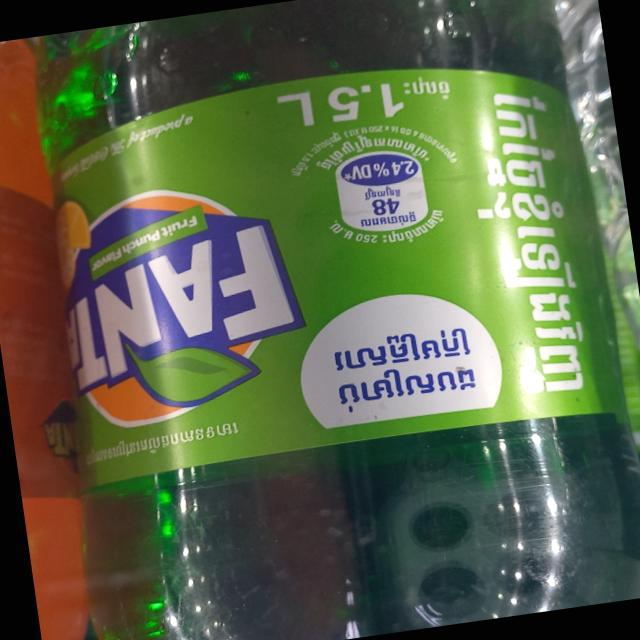523: (314, 77, 406, 128)
634: (389, 158, 420, 178)
680: (353, 230, 378, 244)
758: (369, 197, 402, 217)
Yolov11kh: (472, 87, 603, 401), (77, 414, 246, 472), (332, 367, 487, 419), (323, 326, 476, 376), (314, 134, 434, 173), (381, 209, 448, 246), (399, 74, 460, 102), (360, 211, 416, 228), (326, 218, 356, 243), (361, 185, 406, 201)
